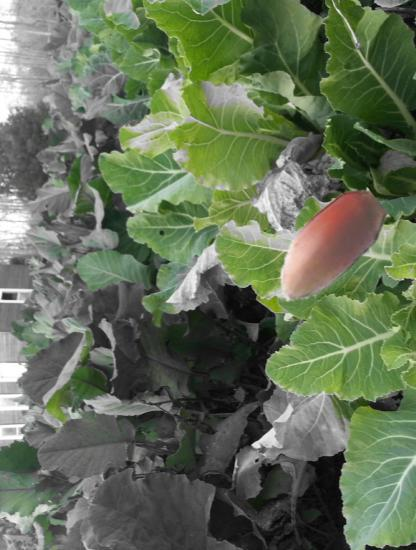Hazelnut: (259, 178, 395, 314)
